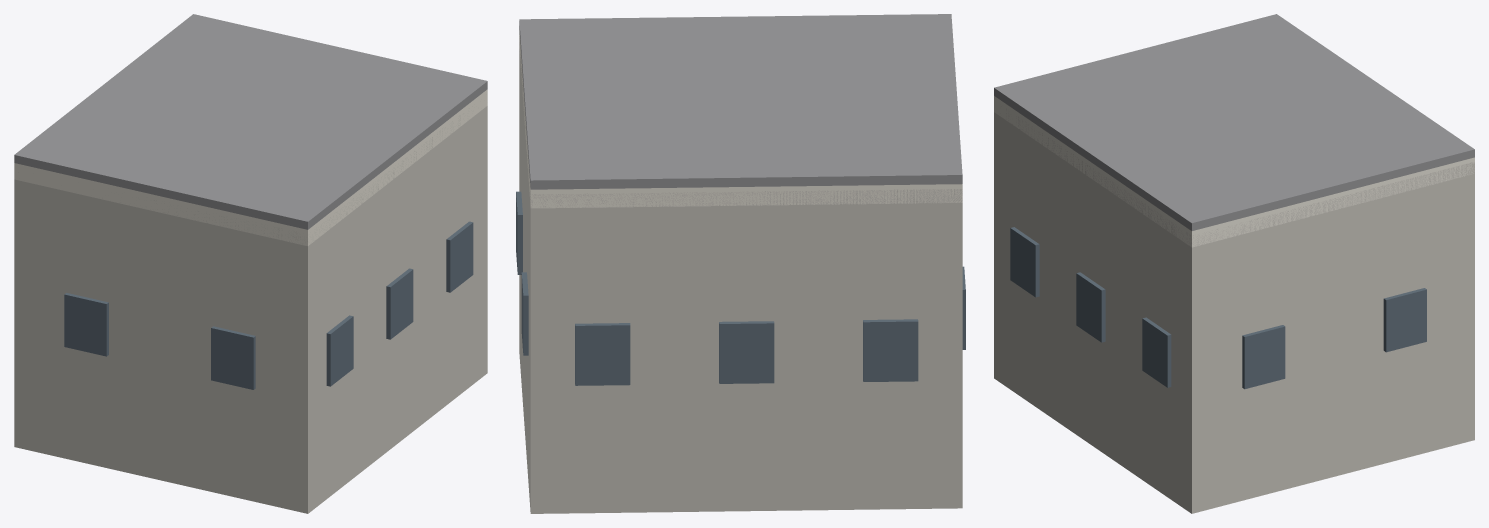
The model's file is s44_tile_tile__1_0_26.glb.
3 renders of one model, left to right at view 1: azimuth 30°, elevation 25°; view 2: azimuth 150°, elevation 25°; view 3: azimuth 270°, elevation 25°, orthographic. The views are drawn at different scales.
Parts seen in each view (by area): view 1: mass, roofcap, cornice, win_0_0_1, win_0_0_0, win_1_0_0, win_1_0_1, win_1_0_2; view 2: mass, roofcap, cornice, win_3_0_0, win_3_0_1, win_3_0_2, win_2_0_1, win_2_0_0; view 3: mass, roofcap, cornice, win_2_0_1, win_2_0_0, win_1_0_0, win_1_0_1, win_1_0_2.
Boxes of the visible parts, box(x1,y1,x2,y2) form: mass: box(14, 106, 487, 513); roofcap: box(14, 14, 487, 229); cornice: box(14, 89, 487, 245); win_0_0_1: box(211, 326, 255, 389); win_0_0_0: box(64, 293, 108, 356); win_1_0_0: box(326, 315, 353, 386); win_1_0_1: box(386, 268, 413, 339); win_1_0_2: box(446, 221, 473, 292); mass: box(519, 36, 962, 513); roofcap: box(519, 14, 962, 189); cornice: box(519, 30, 962, 208); win_3_0_0: box(575, 323, 630, 385); win_3_0_1: box(719, 321, 774, 383); win_3_0_2: box(863, 319, 918, 381); win_2_0_1: box(521, 272, 528, 355); win_2_0_0: box(516, 191, 522, 274); mass: box(994, 106, 1474, 513); roofcap: box(994, 14, 1474, 230); cornice: box(994, 96, 1474, 247); win_2_0_1: box(1383, 288, 1426, 352); win_2_0_0: box(1242, 325, 1285, 389); win_1_0_0: box(1010, 227, 1039, 297); win_1_0_1: box(1076, 272, 1105, 342); win_1_0_2: box(1142, 317, 1171, 387).
Bounding box in the file's own units: 12.89 × 8.35 × 12.52.
